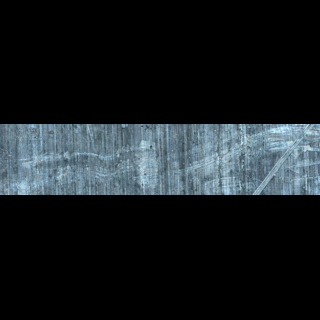d: (15, 153, 158, 186), (248, 127, 317, 195), (173, 146, 246, 195), (128, 136, 162, 188)
